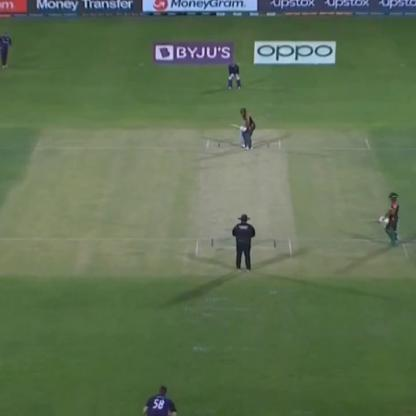bat: (223, 120, 242, 134)
pitch: (186, 134, 289, 275)
